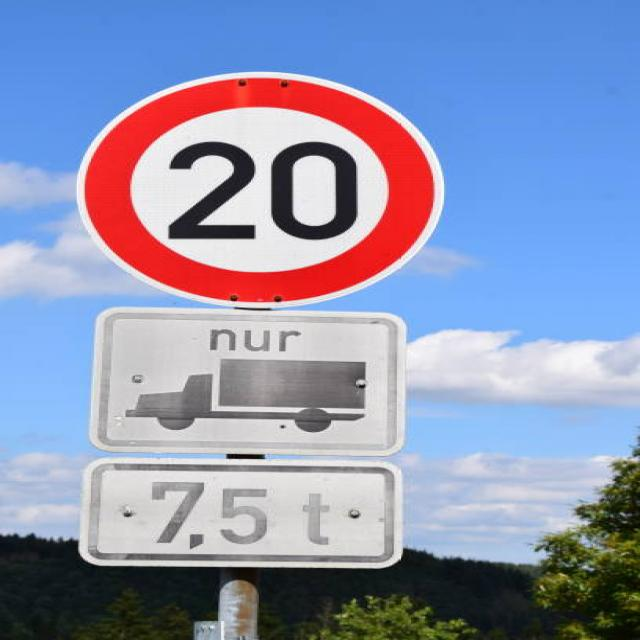speed_limit_20: (75, 69, 451, 310)
